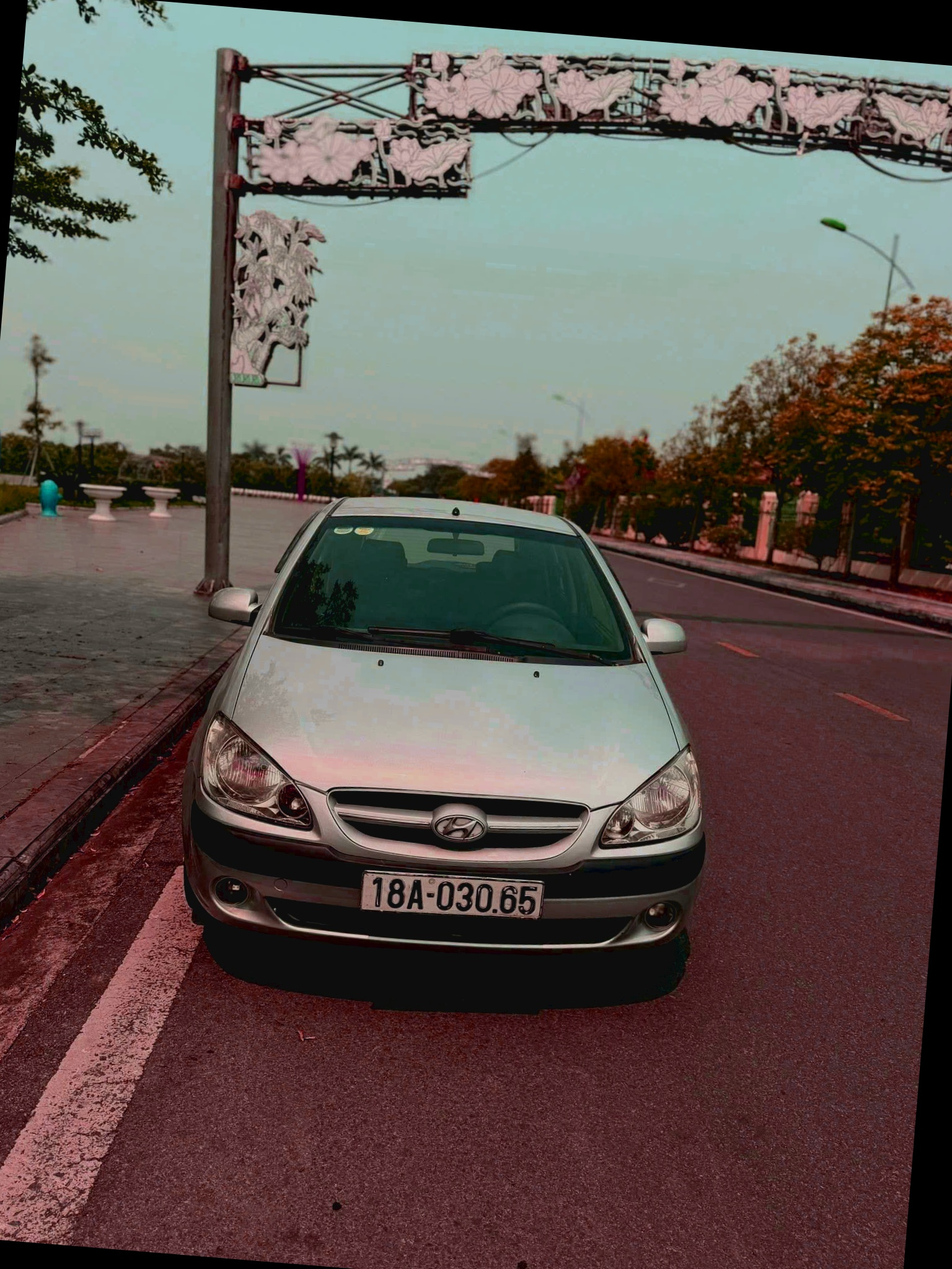Bien-so: (395, 845, 572, 905)
